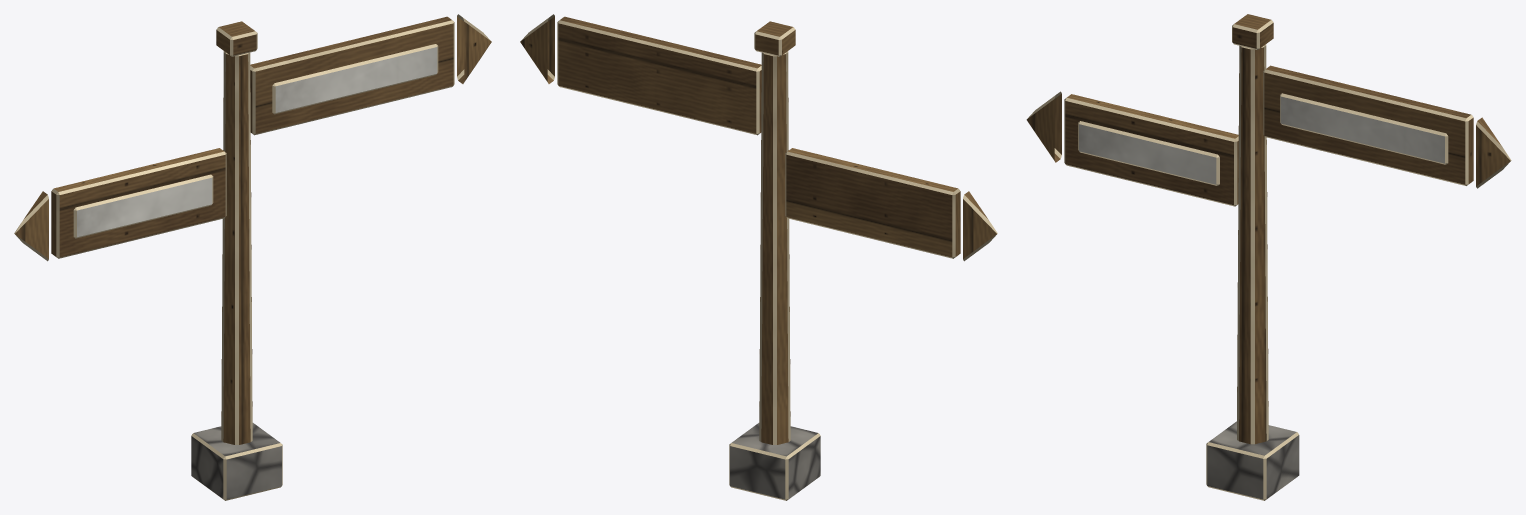
The model's file is Env_Signpost.fbx.
3 views of the same model, side by side, from view 1: azimuth 30°, elevation 25°; view 2: azimuth 150°, elevation 25°; view 3: azimuth 330°, elevation 25° (orthographic).
Parts seen in each view (by area): view 1: Env_Signpost; view 2: Env_Signpost; view 3: Env_Signpost.
Boxes of the visible parts, bbox=[...] form: Env_Signpost: bbox=[14, 14, 491, 500]; Env_Signpost: bbox=[520, 14, 997, 500]; Env_Signpost: bbox=[1026, 14, 1511, 500].
Bounding box in the file's own units: 224 × 28 × 204.
